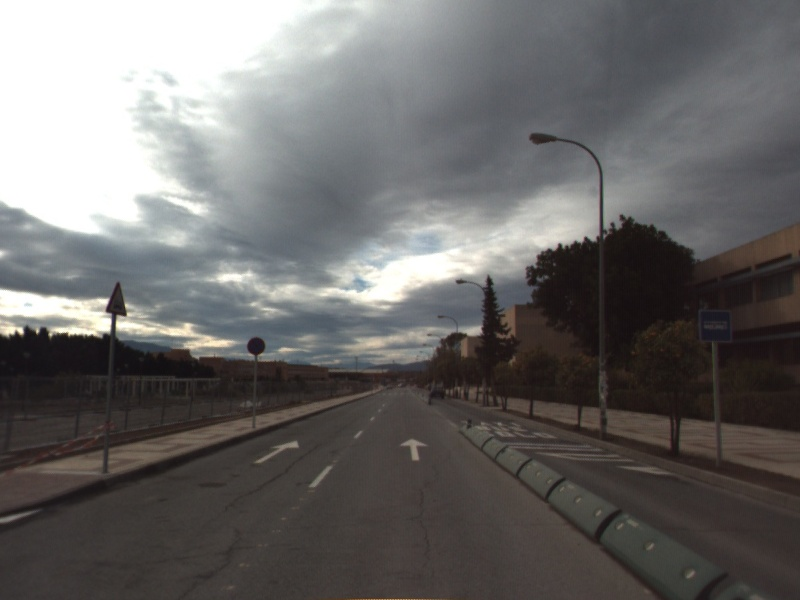STRAIGHT: (251, 438, 301, 465), (398, 436, 430, 462)
